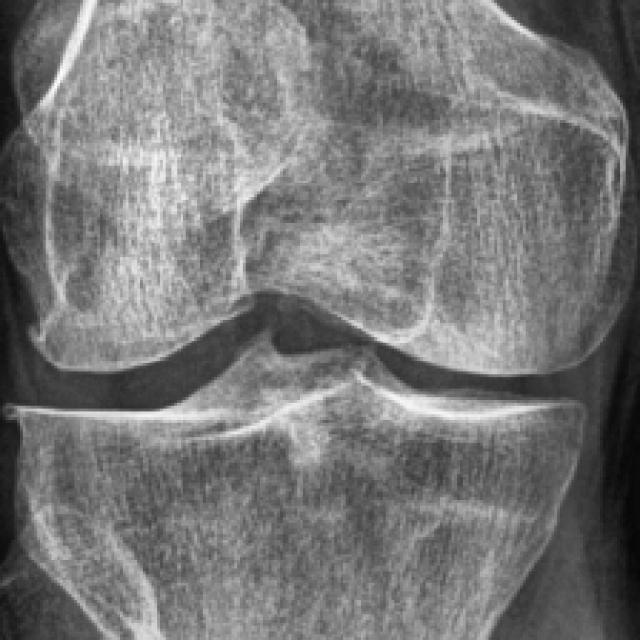femur: (0, 0, 640, 378)
tibia: (0, 333, 587, 640)
